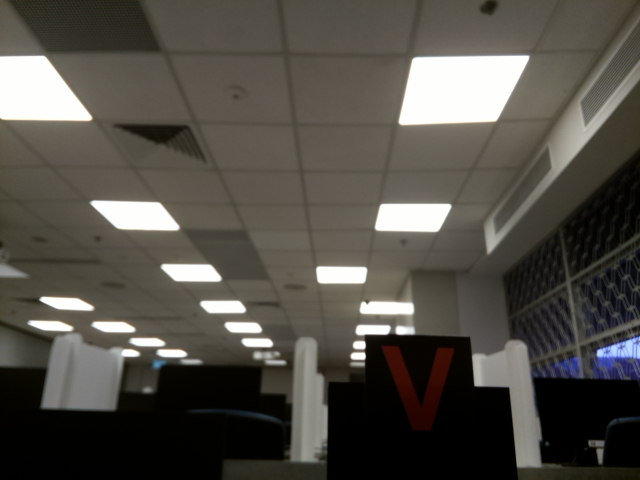v: (364, 339, 470, 439)
